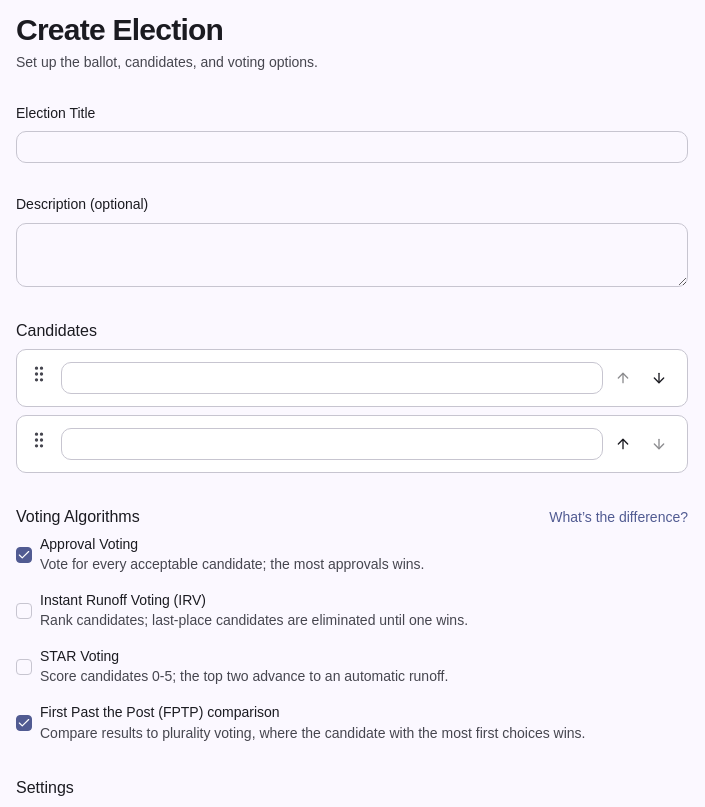
it: #118 self-growing candidate list › gives the open slot no reorder or remove controls
Type "Alice" into the field named "Candidate 1" at (332, 378), box [61, 362, 603, 394]
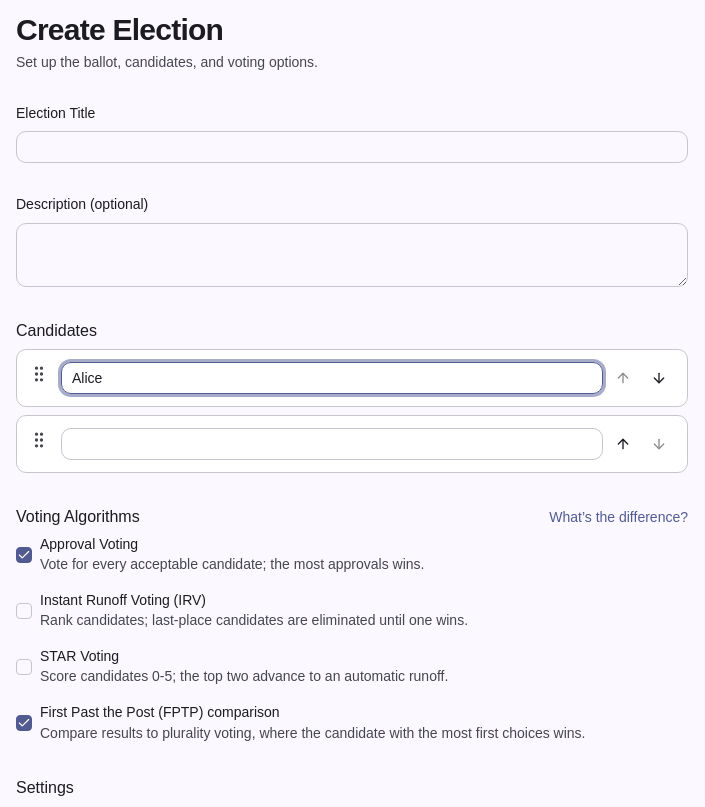
Type "Bob" into the field named "Candidate 2" at (332, 444), box [61, 428, 603, 460]
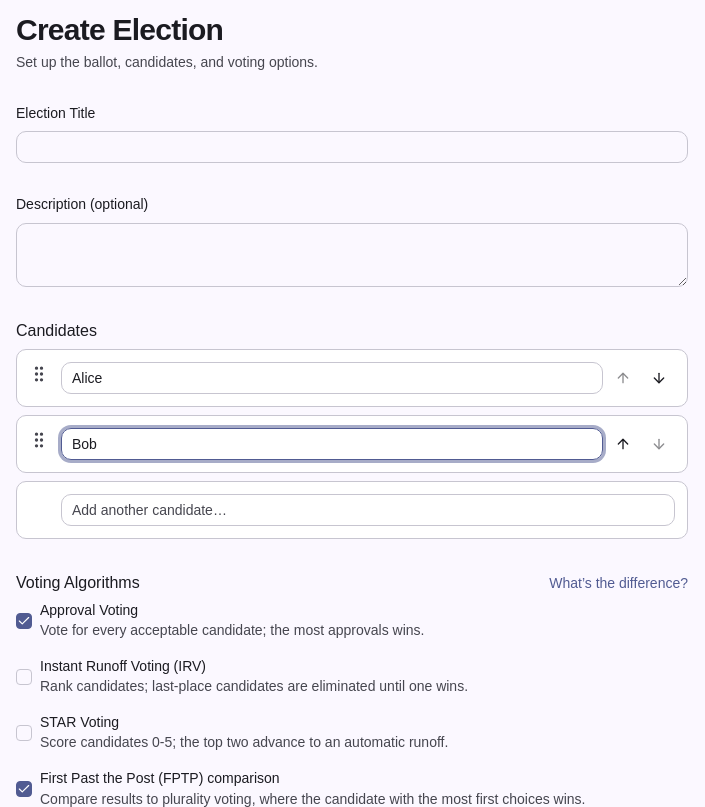
Result: the field labelled "Add another candidate" is shown at [61, 494, 675, 526]
